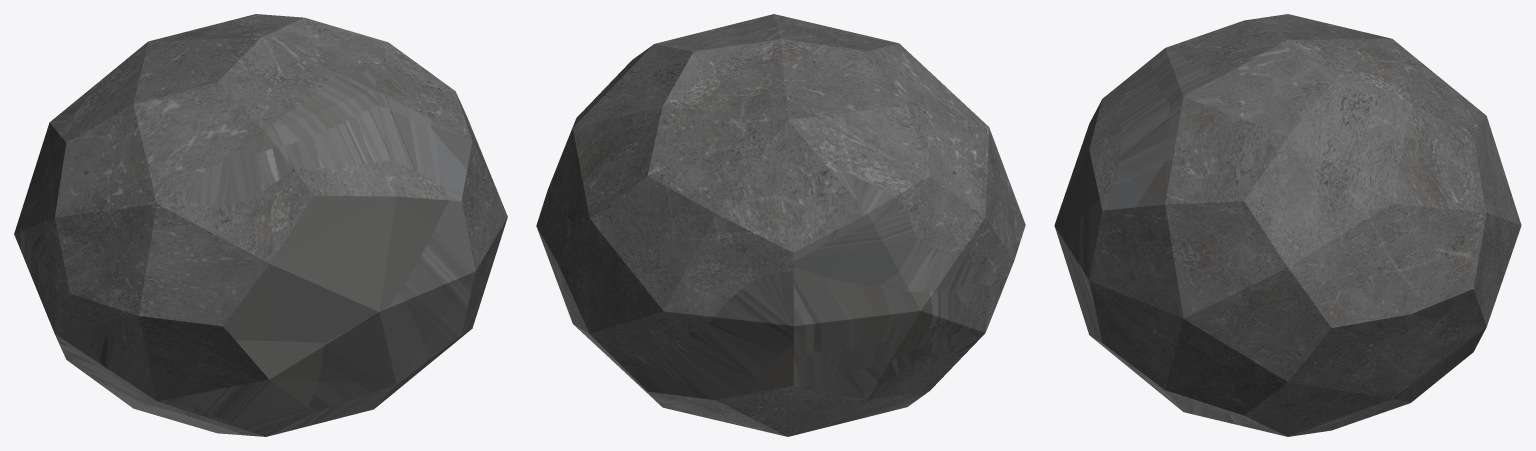
Rendered from GreenTreeTop.fbx.
3 views of the same model, side by side, from view 1: azimuth 30°, elevation 25°; view 2: azimuth 150°, elevation 25°; view 3: azimuth 270°, elevation 25° (orthographic).
Parts seen in each view (by area): view 1: TreeGreenTop; view 2: TreeGreenTop; view 3: TreeGreenTop.
Boxes of the visible parts, x1=… form: TreeGreenTop: x1=14, y1=14, x2=507, y2=436; TreeGreenTop: x1=536, y1=14, x2=1025, y2=436; TreeGreenTop: x1=1054, y1=14, x2=1521, y2=436.
Bounding box in the file's own units: 8.66 × 7.3 × 8.33.
